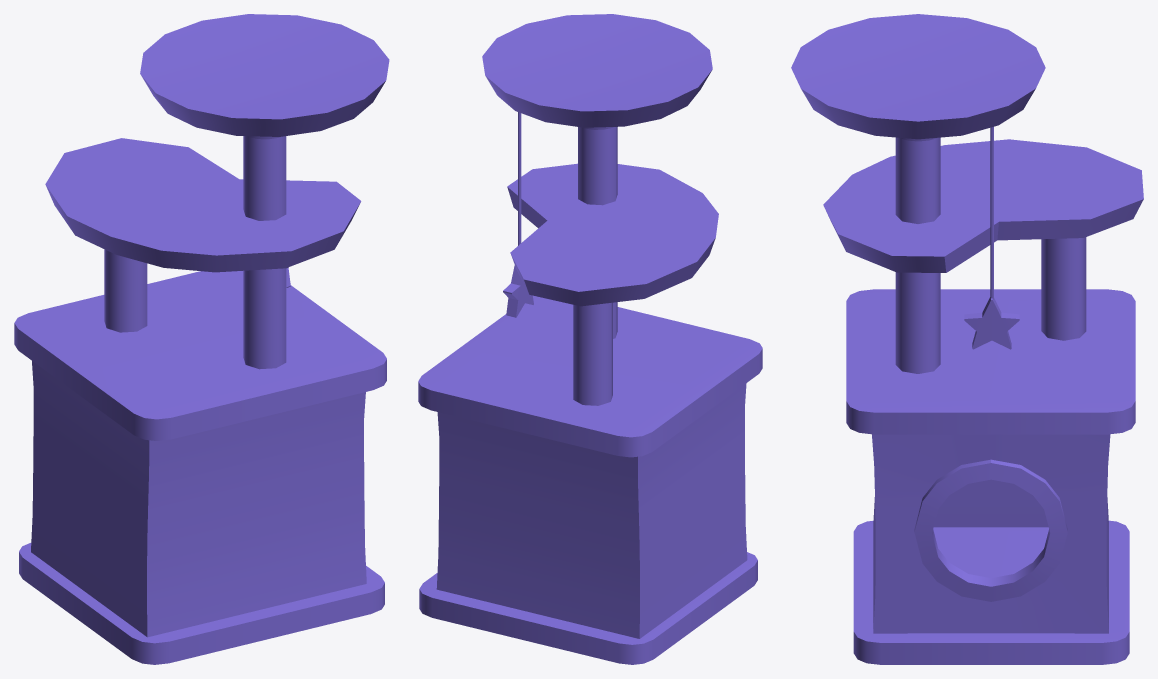
The model's file is SM_Goal_Post.gltf.
3 views of the same model, side by side, from view 1: azimuth 30°, elevation 25°; view 2: azimuth 150°, elevation 25°; view 3: azimuth 270°, elevation 25° (orthographic). The views are drawn at different scales.
Parts seen in each view (by area): view 1: SM_Goal_Base.001; view 2: SM_Goal_Base.001; view 3: SM_Goal_Base.001.
Part boxes in pixels (box(x1,y1,x2,y2)): SM_Goal_Base.001: box(14, 14, 389, 664); SM_Goal_Base.001: box(418, 14, 762, 664); SM_Goal_Base.001: box(791, 14, 1143, 664).
Bounding box in the file's own units: 5.59 × 11.07 × 6.45.
